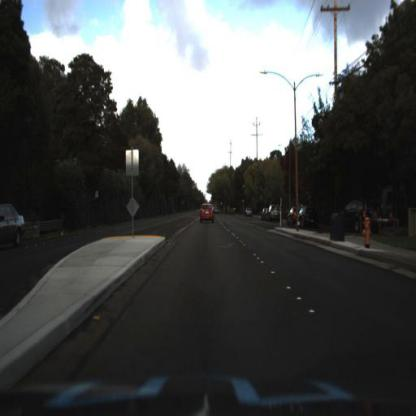car: (340, 198, 387, 236), (1, 202, 26, 253), (298, 201, 322, 232), (199, 202, 215, 228)
